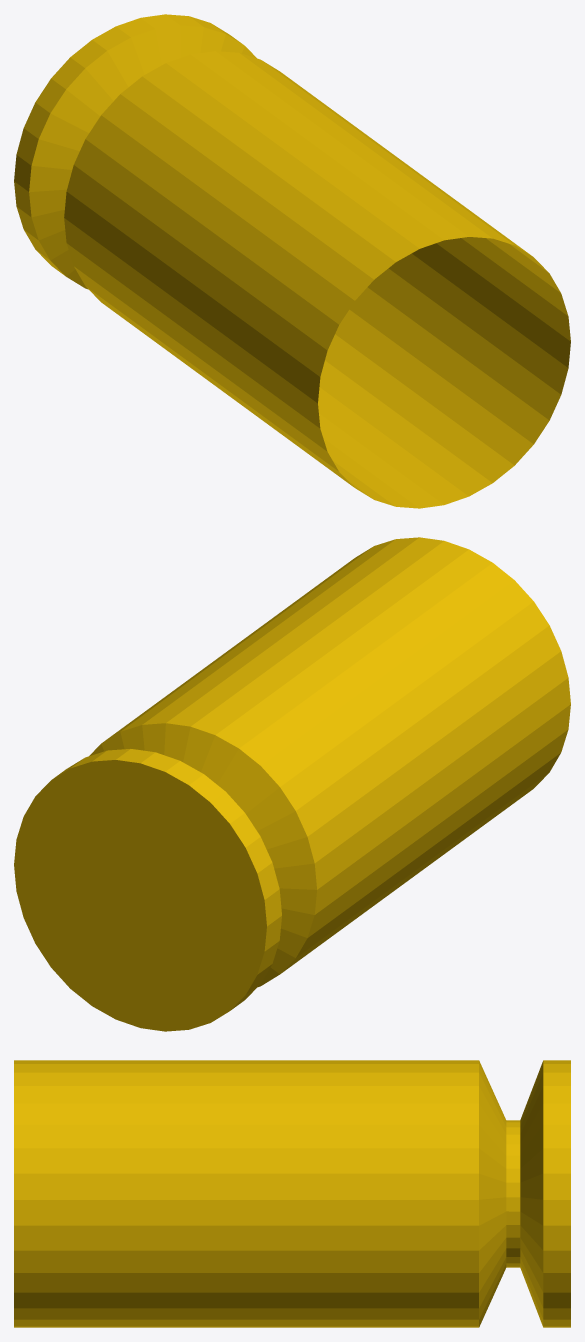
Rendered from casing.fbx.
3 views of the same model, one above another, from view 1: azimuth 30°, elevation 25°; view 2: azimuth 150°, elevation 25°; view 3: azimuth 270°, elevation 25° (orthographic). The views are drawn at different scales.
Visible parts, largest first — view 1: Cylinder; view 2: Cylinder; view 3: Cylinder.
Part boxes in pixels (left/top/right/bottom): Cylinder: left=14, top=14, right=570, bottom=508; Cylinder: left=14, top=537, right=570, bottom=1031; Cylinder: left=14, top=1060, right=570, bottom=1327.
Bounding box in the file's own units: 188 × 188 × 391.
